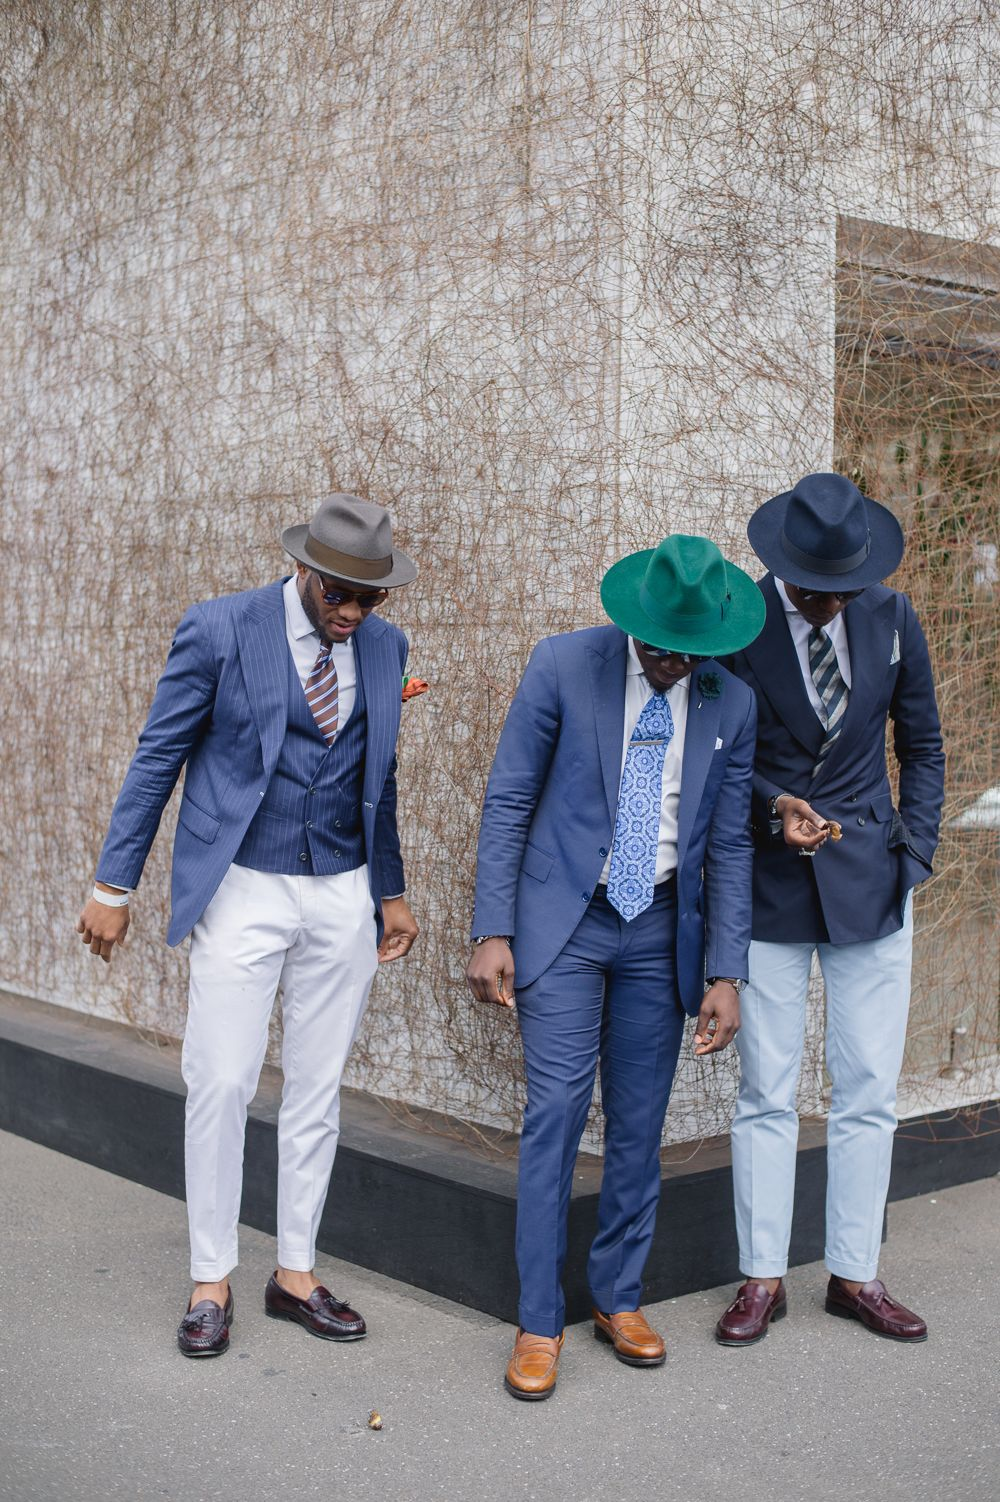Person: (78, 497, 415, 1356), (461, 537, 765, 1404), (747, 474, 948, 1345)
